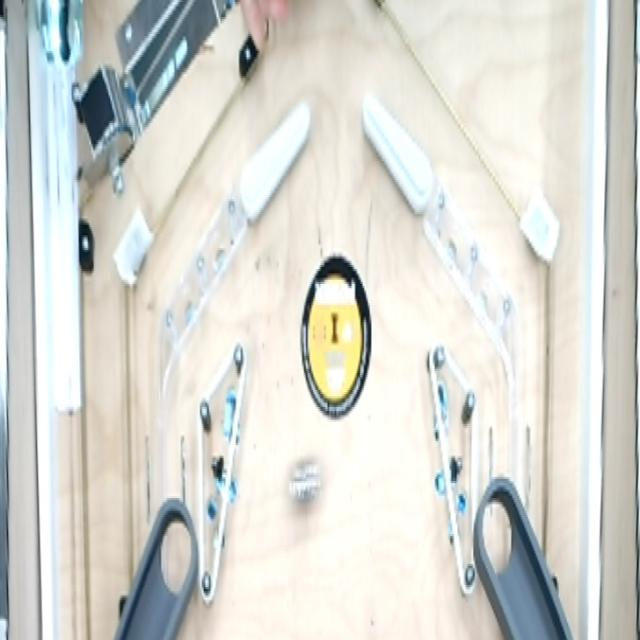ball: (283, 448, 326, 532)
flipper-left: (360, 84, 440, 233)
flipper-right: (240, 87, 312, 233)
